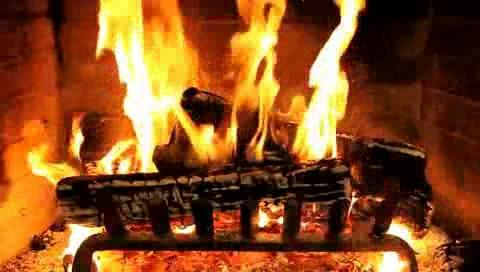fire: (88, 3, 365, 167)
